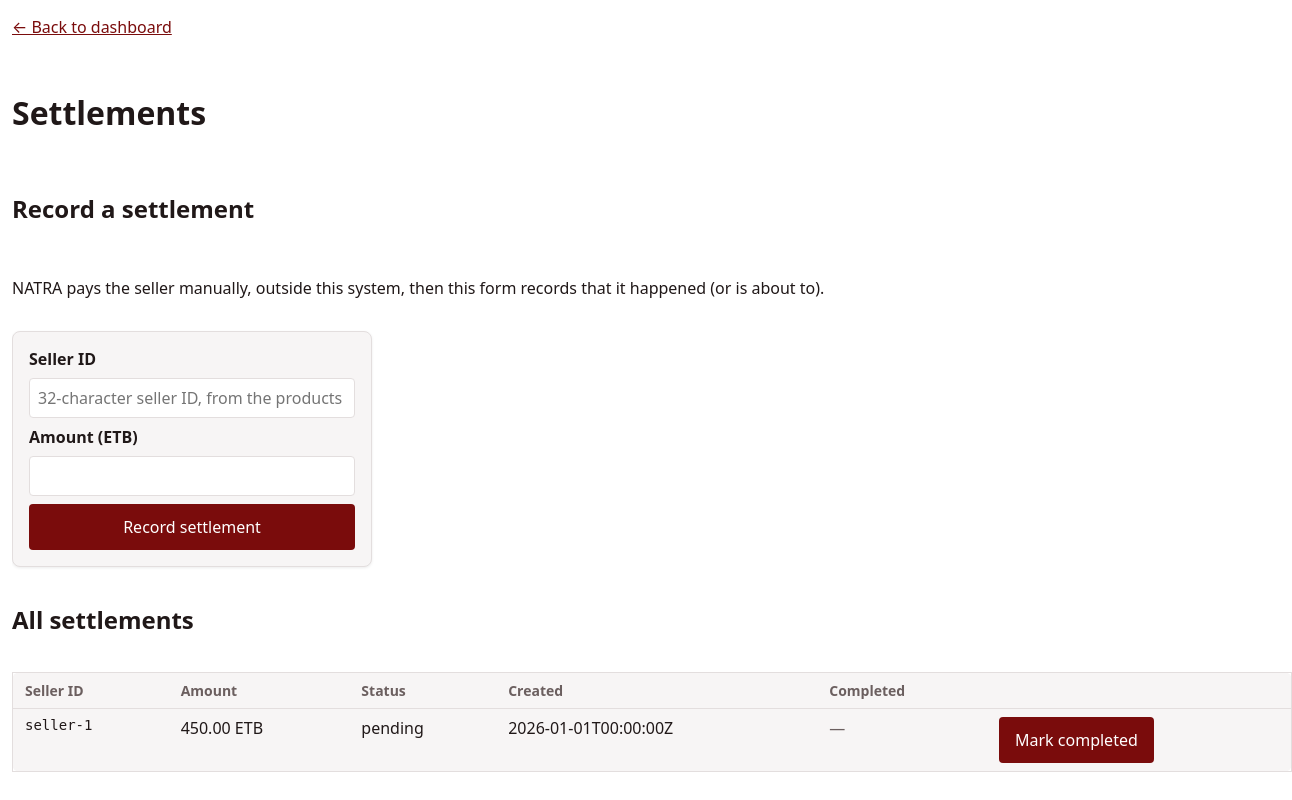
it: AdminSettlements › marks a settlement completed and updates that row in place
Expected: the text "seller-1" is shown, x1=12 y1=708 x2=169 y2=771
Click the button "Mark completed". click: click(1076, 740)
box: x1=999 y1=716 x2=1154 y2=762
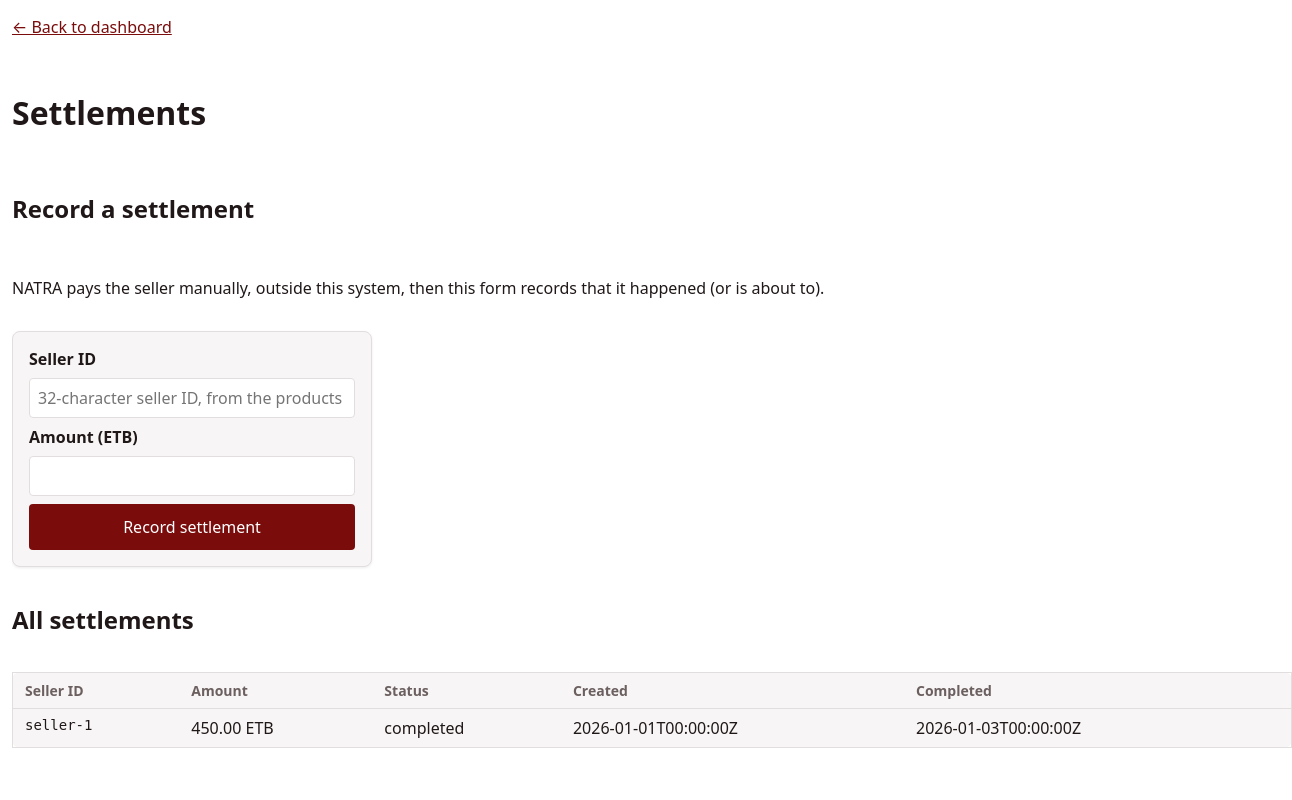
Result: the text "2026-01-03T00:00:00Z" is shown at x1=904 y1=708 x2=1247 y2=747
Result: the button "Mark completed" is gone
